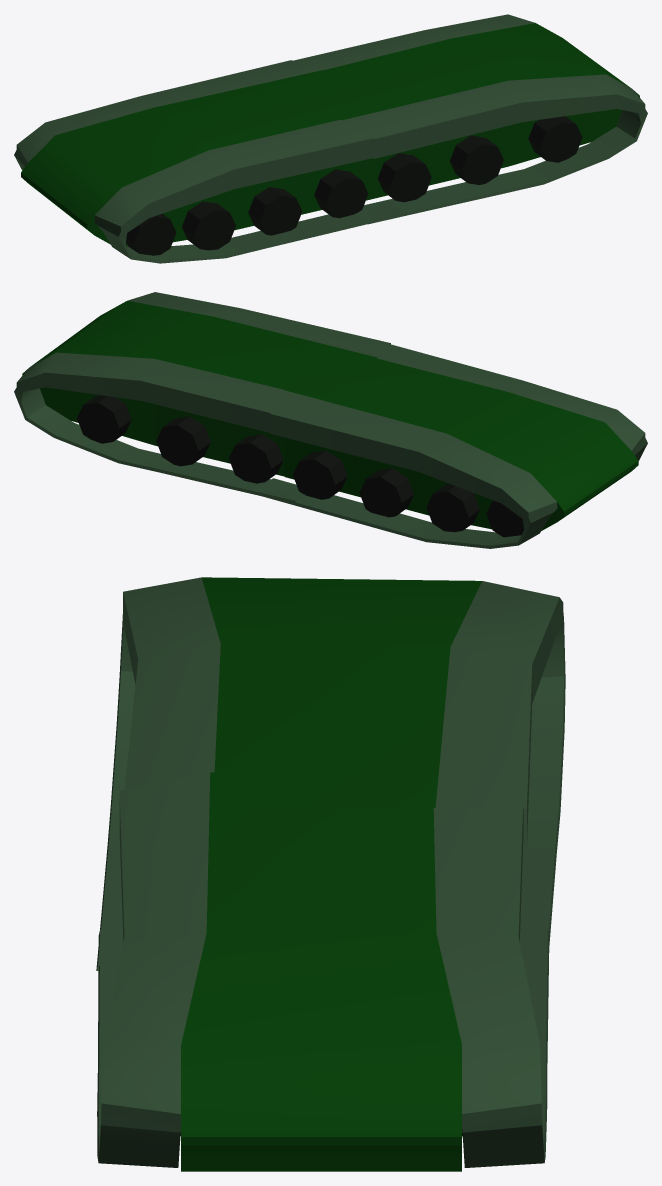
File: TankBase3.obj
3 views of the same model, one above another, from view 1: azimuth 30°, elevation 25°; view 2: azimuth 150°, elevation 25°; view 3: azimuth 270°, elevation 25° (orthographic). The views are drawn at different scales.
Visible parts, largest first — view 1: pCube2, group1 pCube1, group1 pCylinder19, group1 pCylinder15, group1 pCylinder18, group1 pCylinder17, group1 pCylinder14, group1 pCylinder20, pCylinder16 group1; view 2: pCube2, group1 pCube1, group1 pCylinder22, group1 pCylinder23, group1 pCylinder24, group1 pCylinder25, group1 pCylinder21, group1 pCylinder26, group1 pCylinder27; view 3: group1 pCube1, pCube2.
Boxes of the visible parts, box(x1,y1,x2,y2) form: pCube2: box(14, 60, 405, 263); group1 pCube1: box(293, 14, 647, 224); group1 pCylinder19: box(450, 135, 503, 184); group1 pCylinder15: box(182, 201, 235, 250); group1 pCylinder18: box(377, 153, 431, 202); group1 pCylinder17: box(314, 169, 368, 218); group1 pCylinder14: box(248, 187, 302, 235); group1 pCylinder20: box(528, 116, 582, 162); pCylinder16 group1: box(126, 213, 176, 255); pCube2: box(252, 344, 647, 548); group1 pCube1: box(14, 292, 390, 503); group1 pCylinder22: box(156, 416, 210, 466); group1 pCylinder23: box(229, 434, 283, 483); group1 pCylinder24: box(293, 450, 347, 499); group1 pCylinder25: box(359, 468, 413, 517); group1 pCylinder21: box(77, 395, 131, 443); group1 pCylinder26: box(426, 484, 479, 532); group1 pCylinder27: box(486, 500, 523, 537); group1 pCube1: box(97, 772, 549, 1171); pCube2: box(96, 577, 565, 973).
Bounding box in the file's own units: 4.96 × 0.7653 × 1.85.
